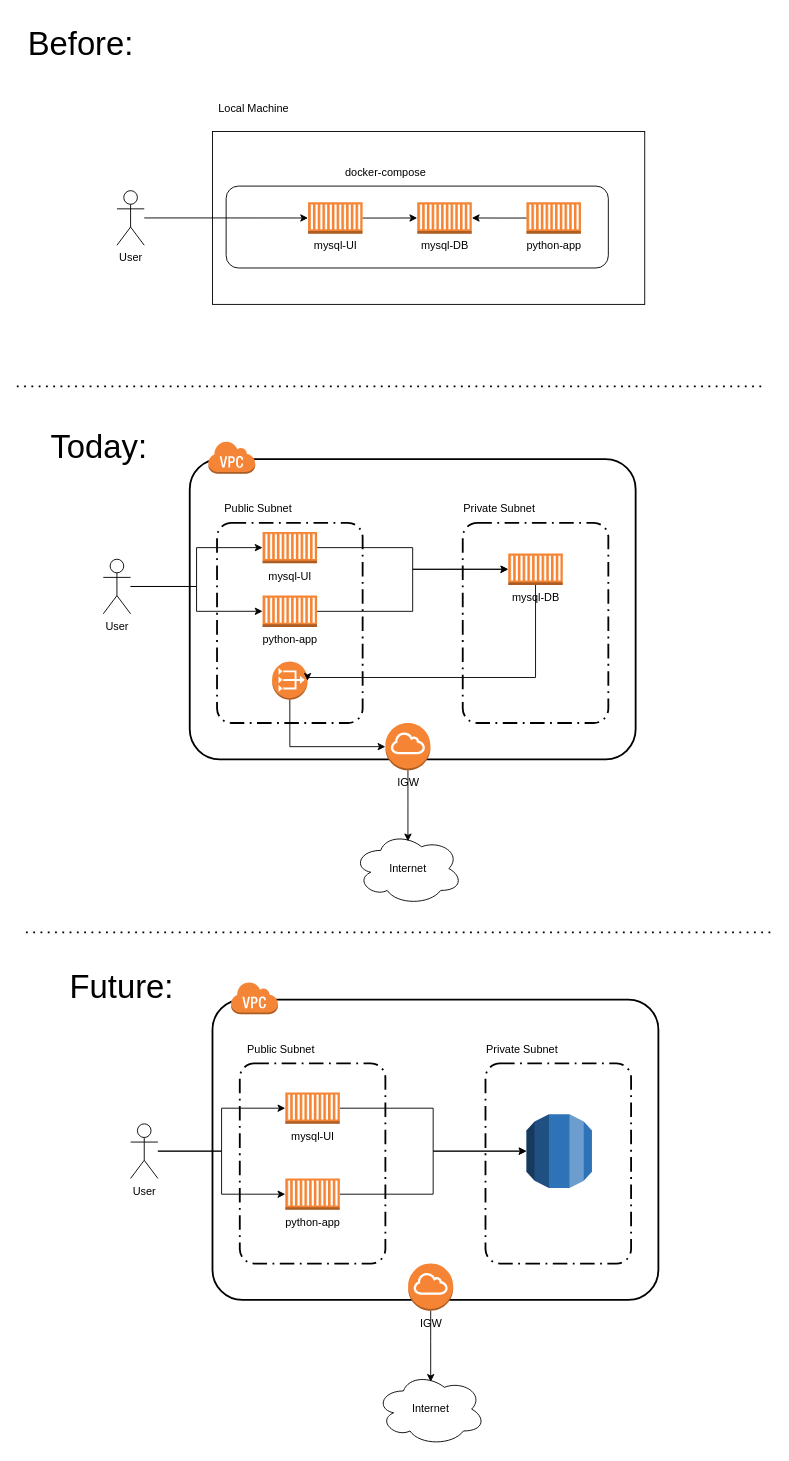
The diagram is 789 pixels wide and 1461 high, and some of its shapes have lost their labels. Here are the shapes that lost their labels. From the top down, the centre of each, then its label:
point (289, 680): NAT
point (559, 1150): RDS
